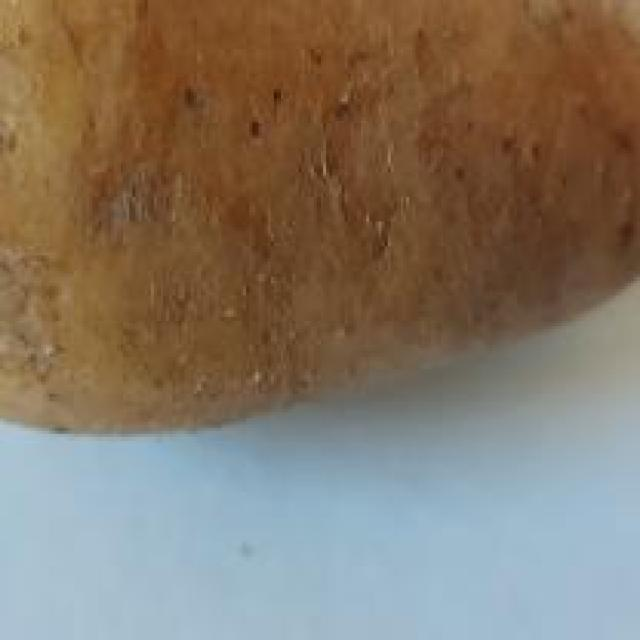potato: (0, 0, 640, 434)
